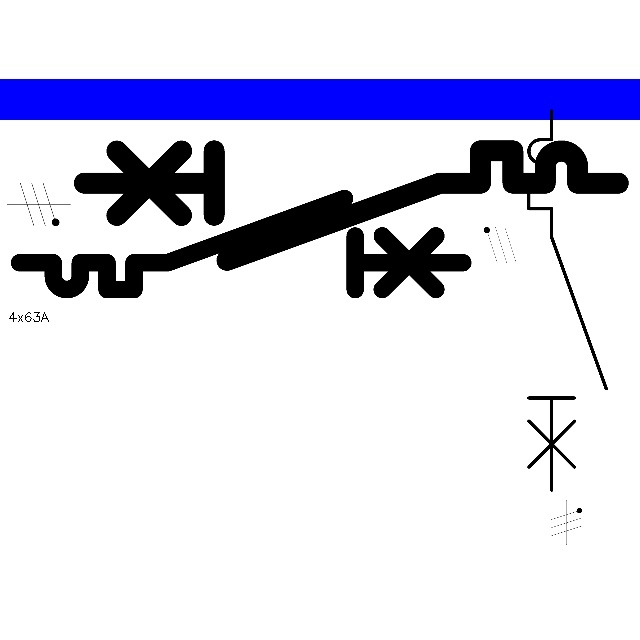interruptor_termomagnetico: (70, 137, 631, 274), (8, 187, 474, 301), (519, 101, 616, 499)
